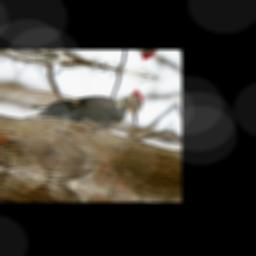Woodpecker: (22, 67, 147, 144)
